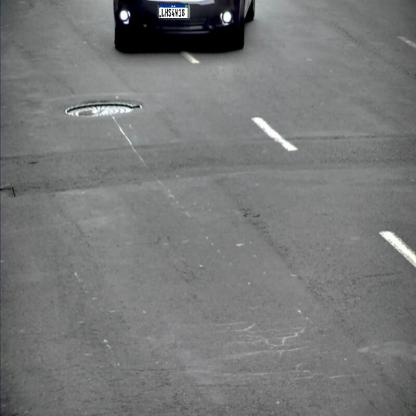PlacaM: (159, 3, 188, 19)
